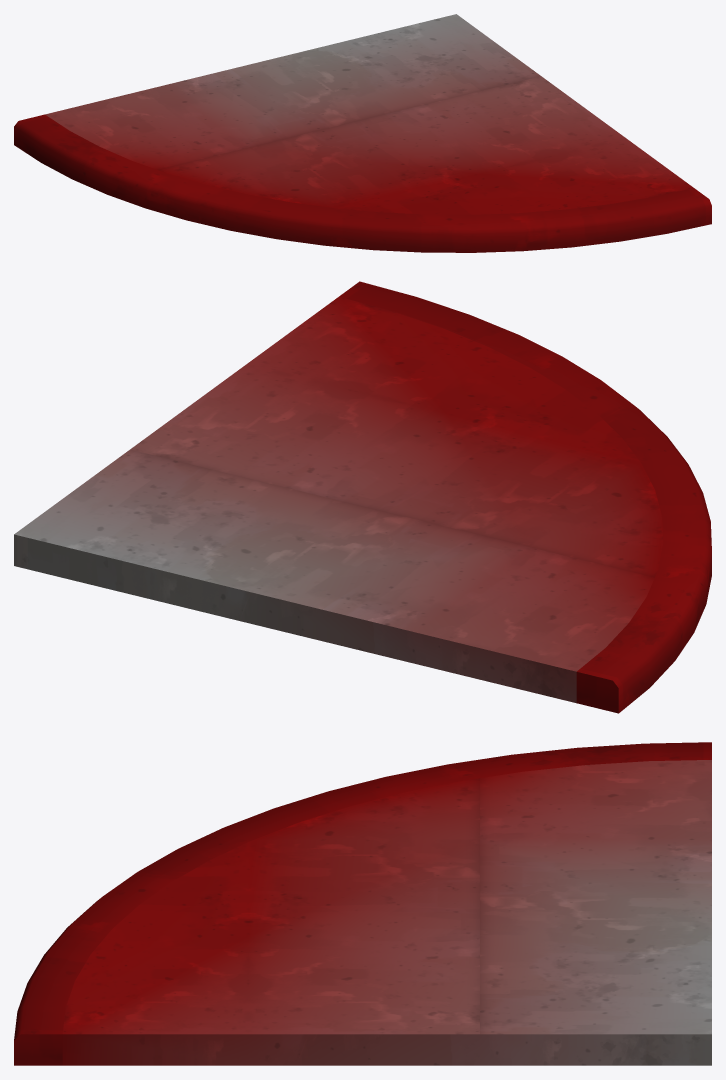
File: Sidewalk_Corner_Round_3m.gltf
3 views of the same model, one above another, from view 1: azimuth 30°, elevation 25°; view 2: azimuth 150°, elevation 25°; view 3: azimuth 270°, elevation 25° (orthographic). The views are drawn at different scales.
Visible parts, largest first — view 1: Sidewalk_Corner_Round_3m; view 2: Sidewalk_Corner_Round_3m; view 3: Sidewalk_Corner_Round_3m.
Boxes of the visible parts, <box> form: Sidewalk_Corner_Round_3m: <box>14,14,711,252</box>; Sidewalk_Corner_Round_3m: <box>14,281,711,713</box>; Sidewalk_Corner_Round_3m: <box>14,742,711,1065</box>.
Bounding box in the file's own units: 3.01 × 0.15 × 3.01.
1 material, 1 textured.
